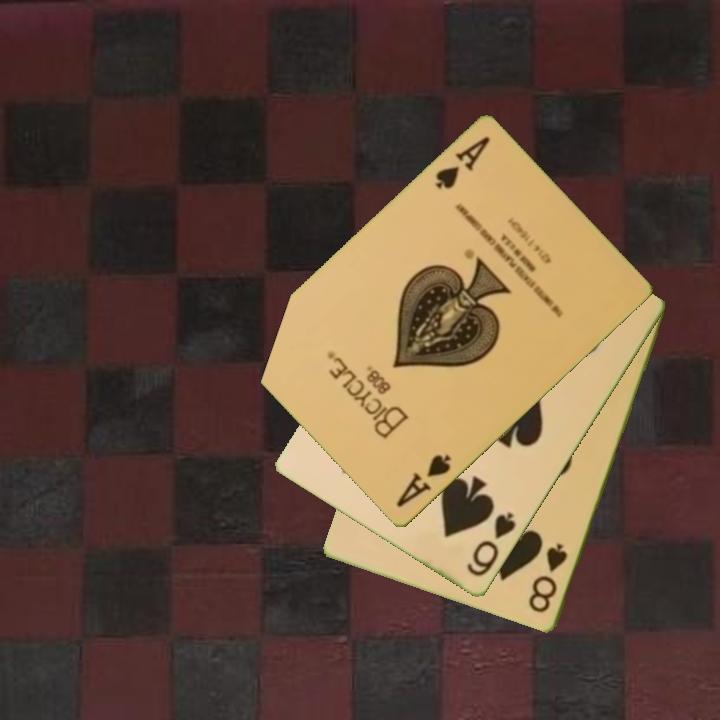6s: (463, 509, 519, 580)
8s: (525, 540, 571, 617)
As: (392, 451, 455, 512), (431, 133, 493, 193)
